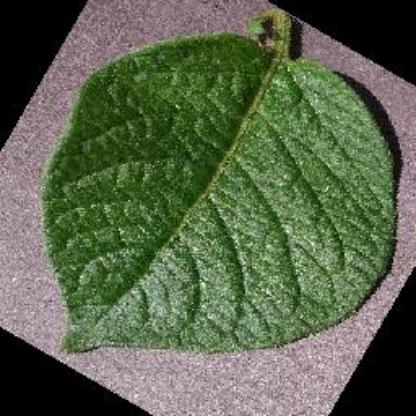Healthy-plant: (41, 8, 399, 358)
